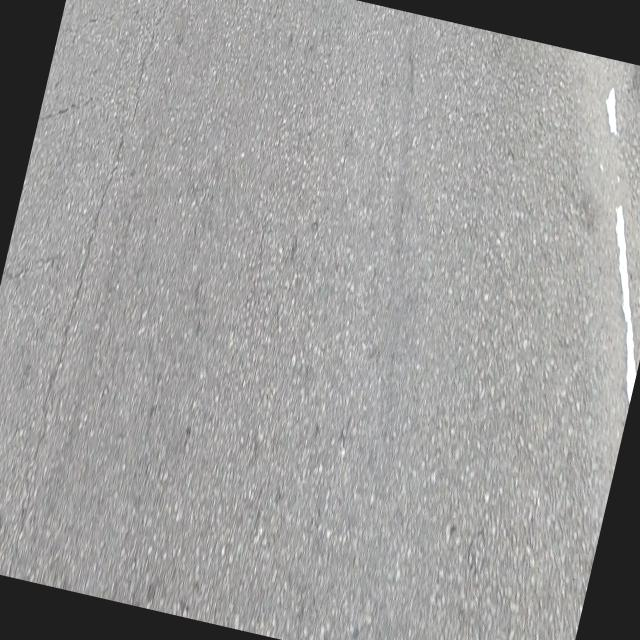Retak-Melintang: (39, 95, 96, 121), (2, 258, 62, 280)
Retak-Memanjang: (6, 0, 171, 577)
